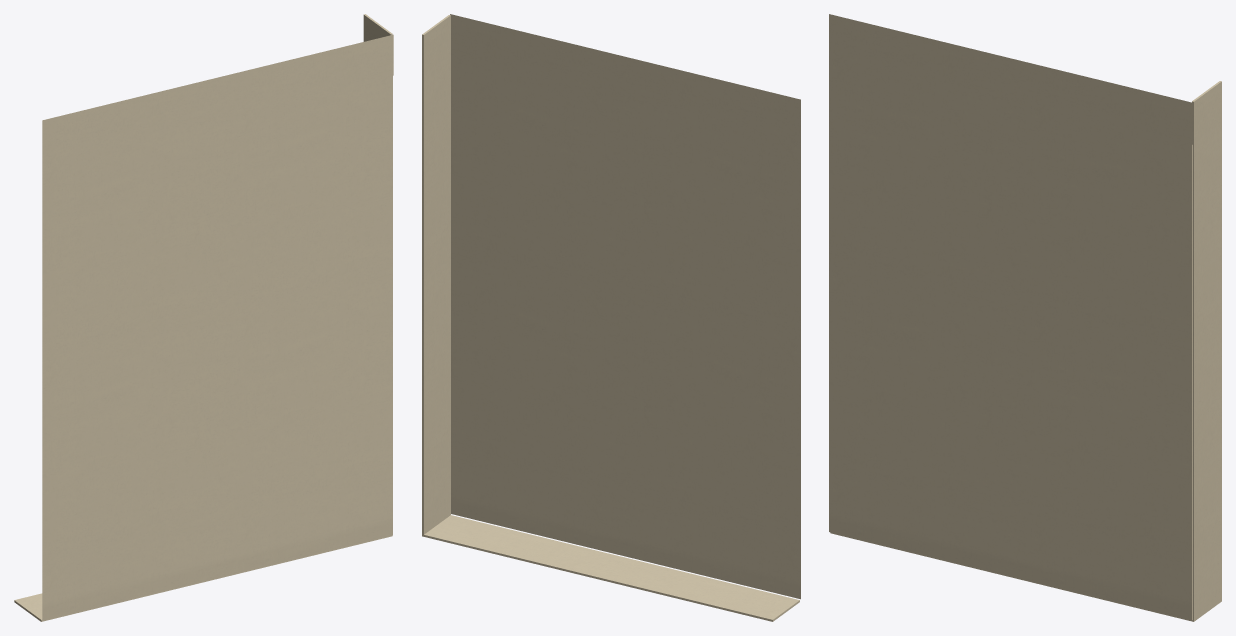
The model's file is service-south-receivers-caravan-court.glb.
3 views of the same model, side by side, from view 1: azimuth 30°, elevation 25°; view 2: azimuth 150°, elevation 25°; view 3: azimuth 330°, elevation 25° (orthographic). The views are drawn at different scales.
Parts seen in each view (by area): view 1: bz06_pale_lime-cast; view 2: bz06_pale_lime-cast; view 3: bz06_pale_lime-cast.
Boxes of the visible parts, x1=… form: bz06_pale_lime-cast: x1=14, y1=14, x2=393, y2=621; bz06_pale_lime-cast: x1=422, y1=14, x2=800, y2=621; bz06_pale_lime-cast: x1=829, y1=14, x2=1221, y2=621.
Size of the model in its own units: 3.6 by 4.92 by 0.5.
1 material, 1 textured.
